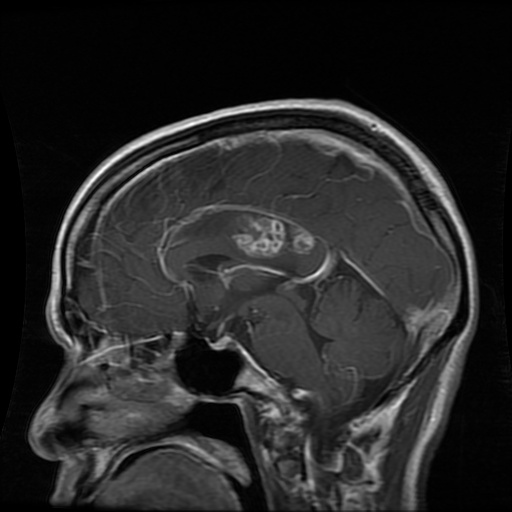glioma: (235, 212, 312, 254)
